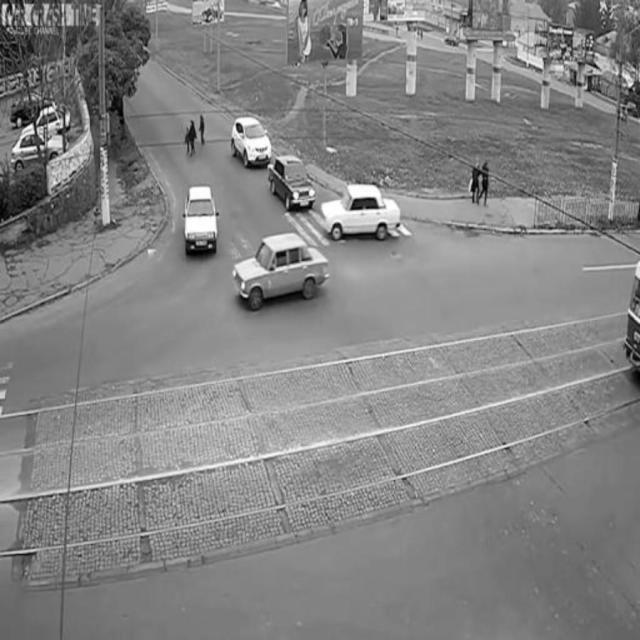person: (179, 114, 199, 166), (480, 156, 494, 211), (468, 154, 480, 218), (197, 101, 205, 152)
vehicle: (239, 234, 329, 307), (324, 180, 404, 241), (267, 152, 313, 216), (229, 113, 273, 171), (14, 124, 64, 172), (183, 187, 213, 265)
